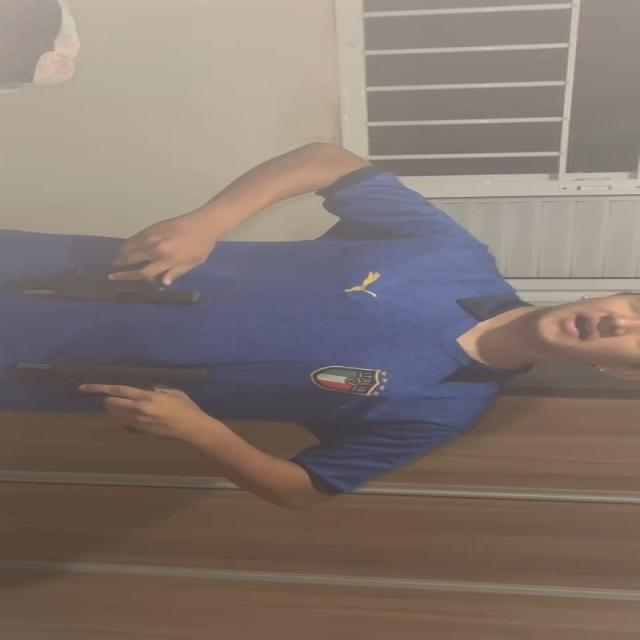gun: (12, 265, 206, 307), (17, 356, 208, 394)
